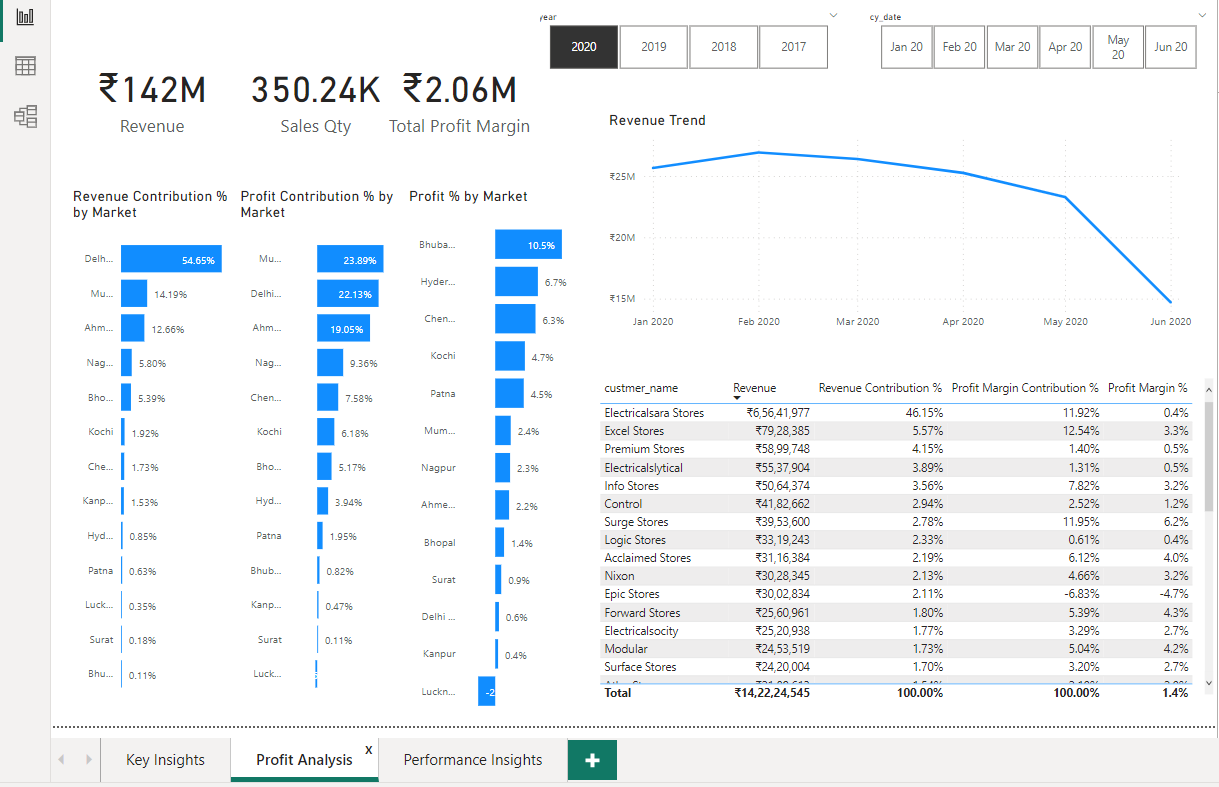

The dashboard page shown, as its layout file describes it:
{"tool":"powerbi","page":{"name":"Profit Analysis","canvas":[1350,850],"ordinal":1},"visuals":[{"type":"card","fields":{"Values":["BaseMeasures.Revenue"]},"box":[20.3,17.4,193.9,208.4],"z":0},{"type":"card","fields":{"Values":["BaseMeasures.Sales Qty"]},"box":[214.2,17.4,185.2,208.4],"z":1000},{"type":"barChart","title":"Profit % by Market","fields":{"Y":["BaseMeasures.Profit Margin %"],"Category":["sales markets.markets_name"]},"box":[409.6,225.8,220,623.8],"z":2000},{"type":"barChart","title":"Profit Contribution % by Market","fields":{"Y":["BaseMeasures.Profit Margin Contribution %"],"Category":["sales markets.markets_name"]},"box":[214.2,225.8,195.4,600.6],"z":3000},{"type":"slicer","fields":{"Values":["sales date.year"]},"box":[551.4,17.4,371.9,78.2],"z":4000},{"type":"slicer","fields":{"Values":["sales date.cy_date"]},"box":[934.9,17.4,415.4,78.2],"z":5000},{"type":"tableEx","title":"Top 5 customers by Revenue","fields":{"Values":["sales customers.custmer_name","BaseMeasures.Revenue","BaseMeasures.Revenue Contribution %","BaseMeasures.Profit Margin Contribution %","BaseMeasures.Profit Margin %"]},"box":[629.6,442.9,720.7,383.5],"z":6000},{"type":"lineChart","title":"Revenue Trend","fields":{"Y":["BaseMeasures.Revenue"],"Category":["sales date.cy_date"]},"box":[641.1,137.5,684.6,262],"z":7000},{"type":"card","fields":{"Values":["BaseMeasures.Total Profit Margin"]},"box":[380.6,17.4,185.2,208.4],"z":8000},{"type":"barChart","title":"Revenue Contribution % by Market","fields":{"Y":["BaseMeasures.Revenue Contribution %"],"Category":["sales markets.markets_name"]},"box":[20.3,225.8,193.9,600.6],"z":9000}]}

Visuals, with their boxes on the page's 1350x850 design canvas (x1, y1, x2, y2). These are canvas units, not pixel positions in the 1219x787 screenshot, which may show the page scaled, cropped or inside an application window:
card - BaseMeasures.Revenue: [20,17,214,226]
card - BaseMeasures.Sales Qty: [214,17,399,226]
"Profit % by Market" barChart: [410,226,630,850]
"Profit Contribution % by Market" barChart: [214,226,410,826]
slicer - sales date.year: [551,17,923,96]
slicer - sales date.cy_date: [935,17,1350,96]
"Top 5 customers by Revenue" tableEx: [630,443,1350,826]
"Revenue Trend" lineChart: [641,138,1326,400]
card - BaseMeasures.Total Profit Margin: [381,17,566,226]
"Revenue Contribution % by Market" barChart: [20,226,214,826]
